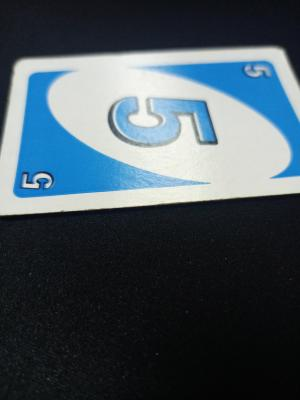blue: (25, 68, 297, 185)
num_5: (14, 168, 60, 194), (233, 61, 278, 84)
